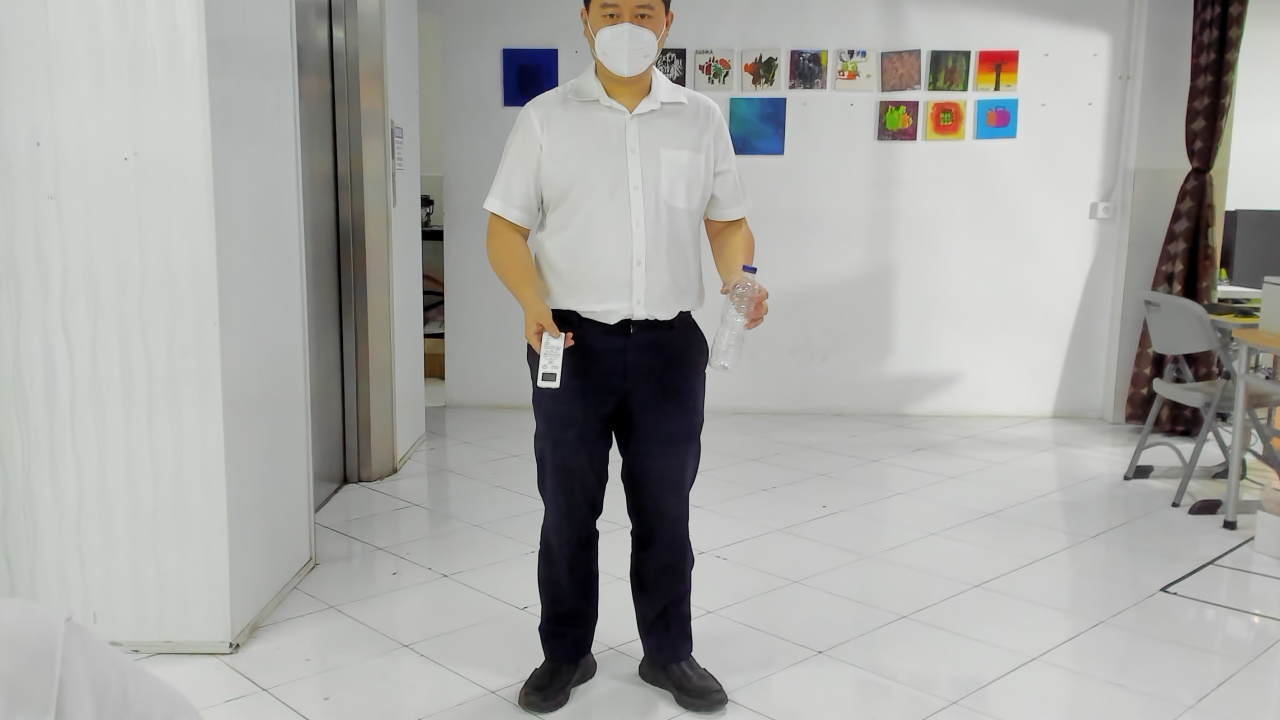Bottle: (700, 267, 763, 383)
bg: (1, 6, 1184, 267), (10, 436, 1185, 690), (533, 332, 574, 394)
